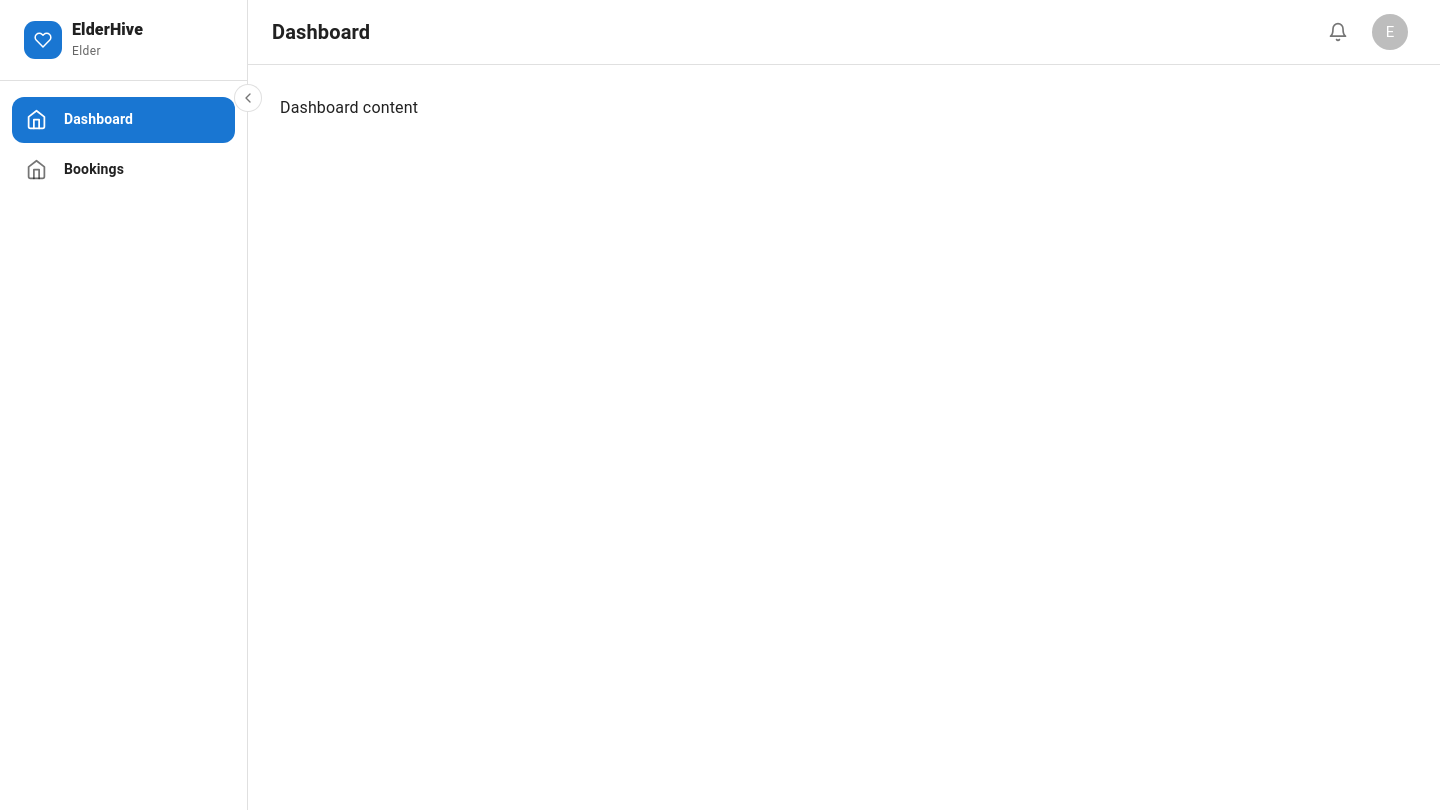
Test case: DashboardLayout › shows the logged-in user's email in the account menu
What coordinates should you click on to do the following:
click the button named "Open account menu"
I would click on:
 (1390, 32)
Its box is x1=1364 y1=6 x2=1416 y2=58.
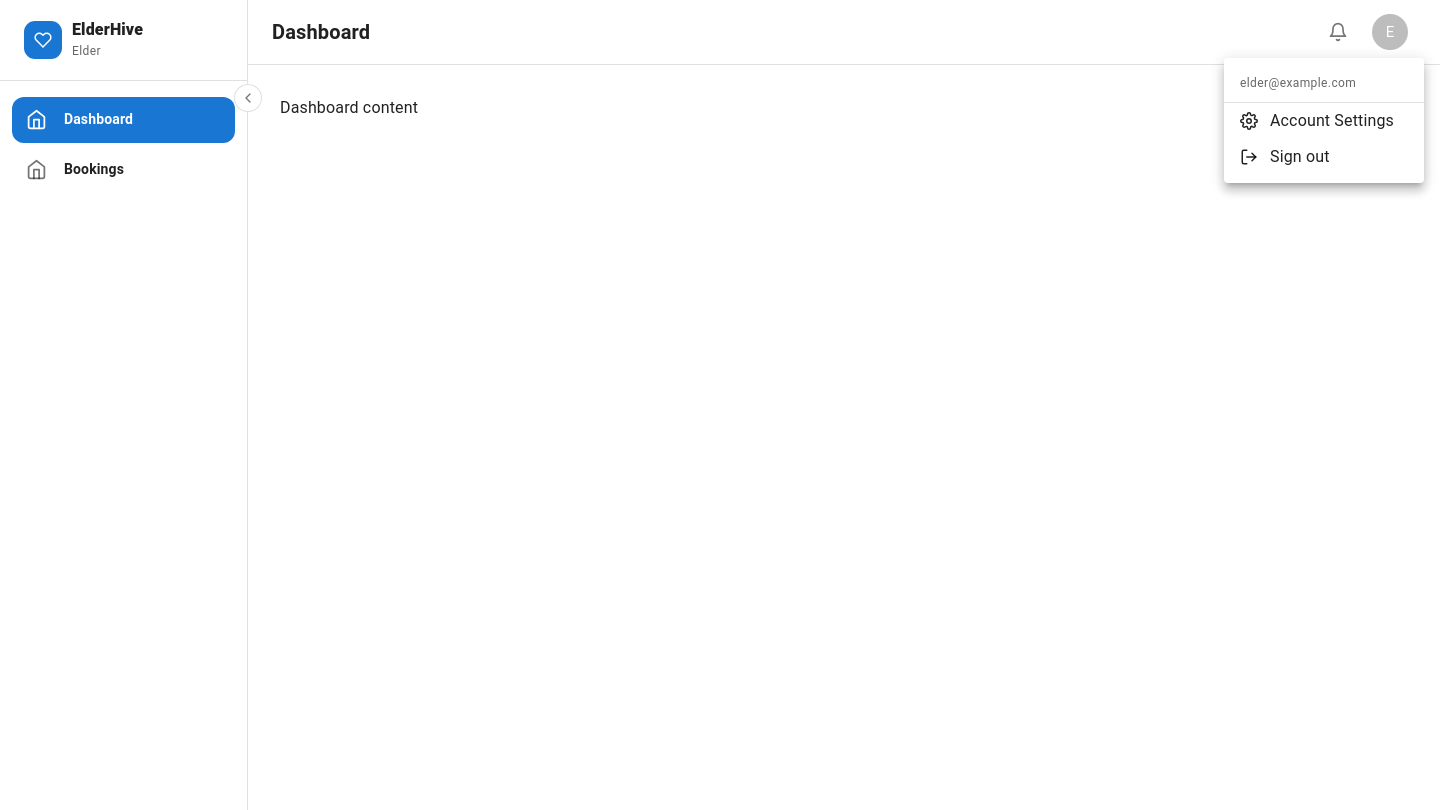
expect the text "elder@example.com" is shown: met, box x1=1240 y1=76 x2=1356 y2=90
